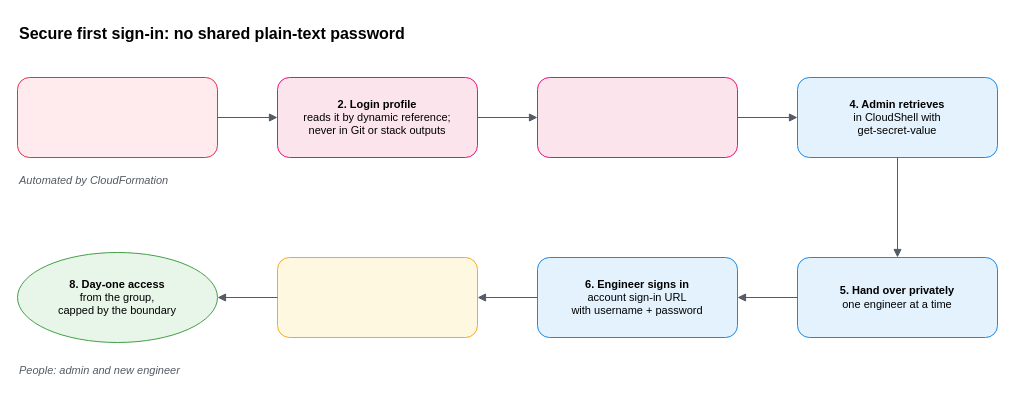
Some shapes in this 1015 by 394 pixel diagram are drawn without their labels. The centre of each missing label's shape, as x and y in pixels:
"1. Secret created onward/onboarding/{user} generated, 24 characters" belongs at pixel 117 117.
"3. Reset required PasswordResetRequired = true" belongs at pixel 637 117.
"7. Sets a new password iam:ChangePassword is allowed by the boundary" belongs at pixel 377 297.
